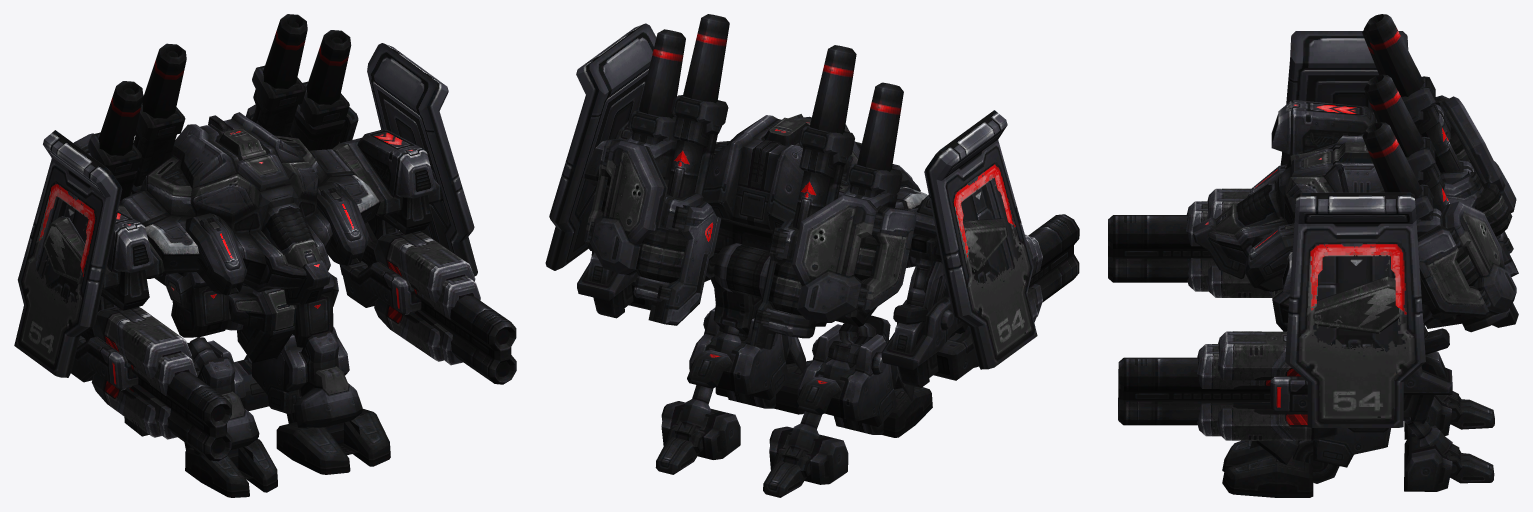
Rendered from Thor2.obj.
The picture shows the model from 3 angles, left to right: view 1: azimuth 30°, elevation 25°; view 2: azimuth 150°, elevation 25°; view 3: azimuth 270°, elevation 25°; orthographic projection. The views are drawn at different scales.
Visible parts, largest first — view 1: Shadow_Thor.m3; view 2: Shadow_Thor.m3; view 3: Shadow_Thor.m3.
Boxes of the visible parts, x1,y1,x2,y2 form: Shadow_Thor.m3: (14, 14, 516, 497); Shadow_Thor.m3: (545, 14, 1079, 497); Shadow_Thor.m3: (1108, 14, 1518, 497).
Size of the model in its own units: 6.09 by 5.43 by 4.97.
5 materials, 5 textured.
